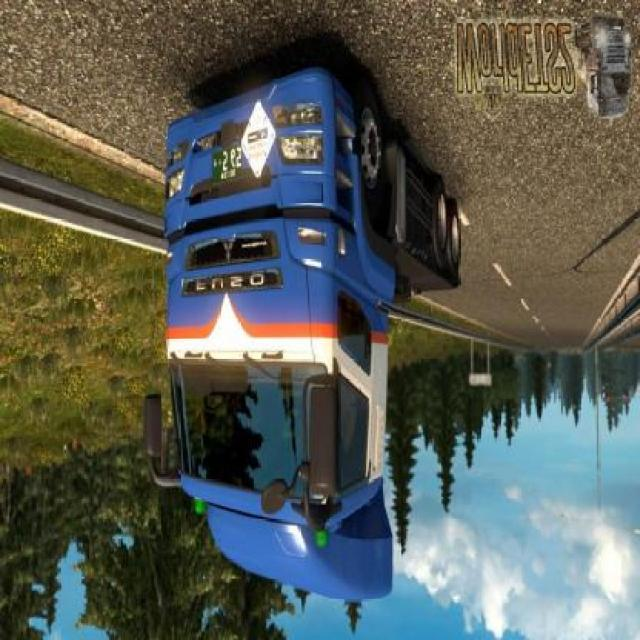truck: (150, 61, 463, 604)
